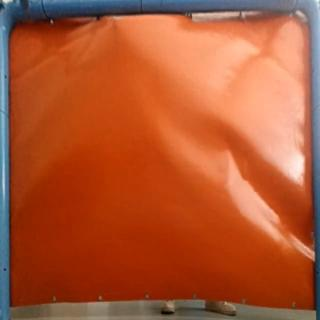Hit-hRxx: (108, 18, 122, 28)
